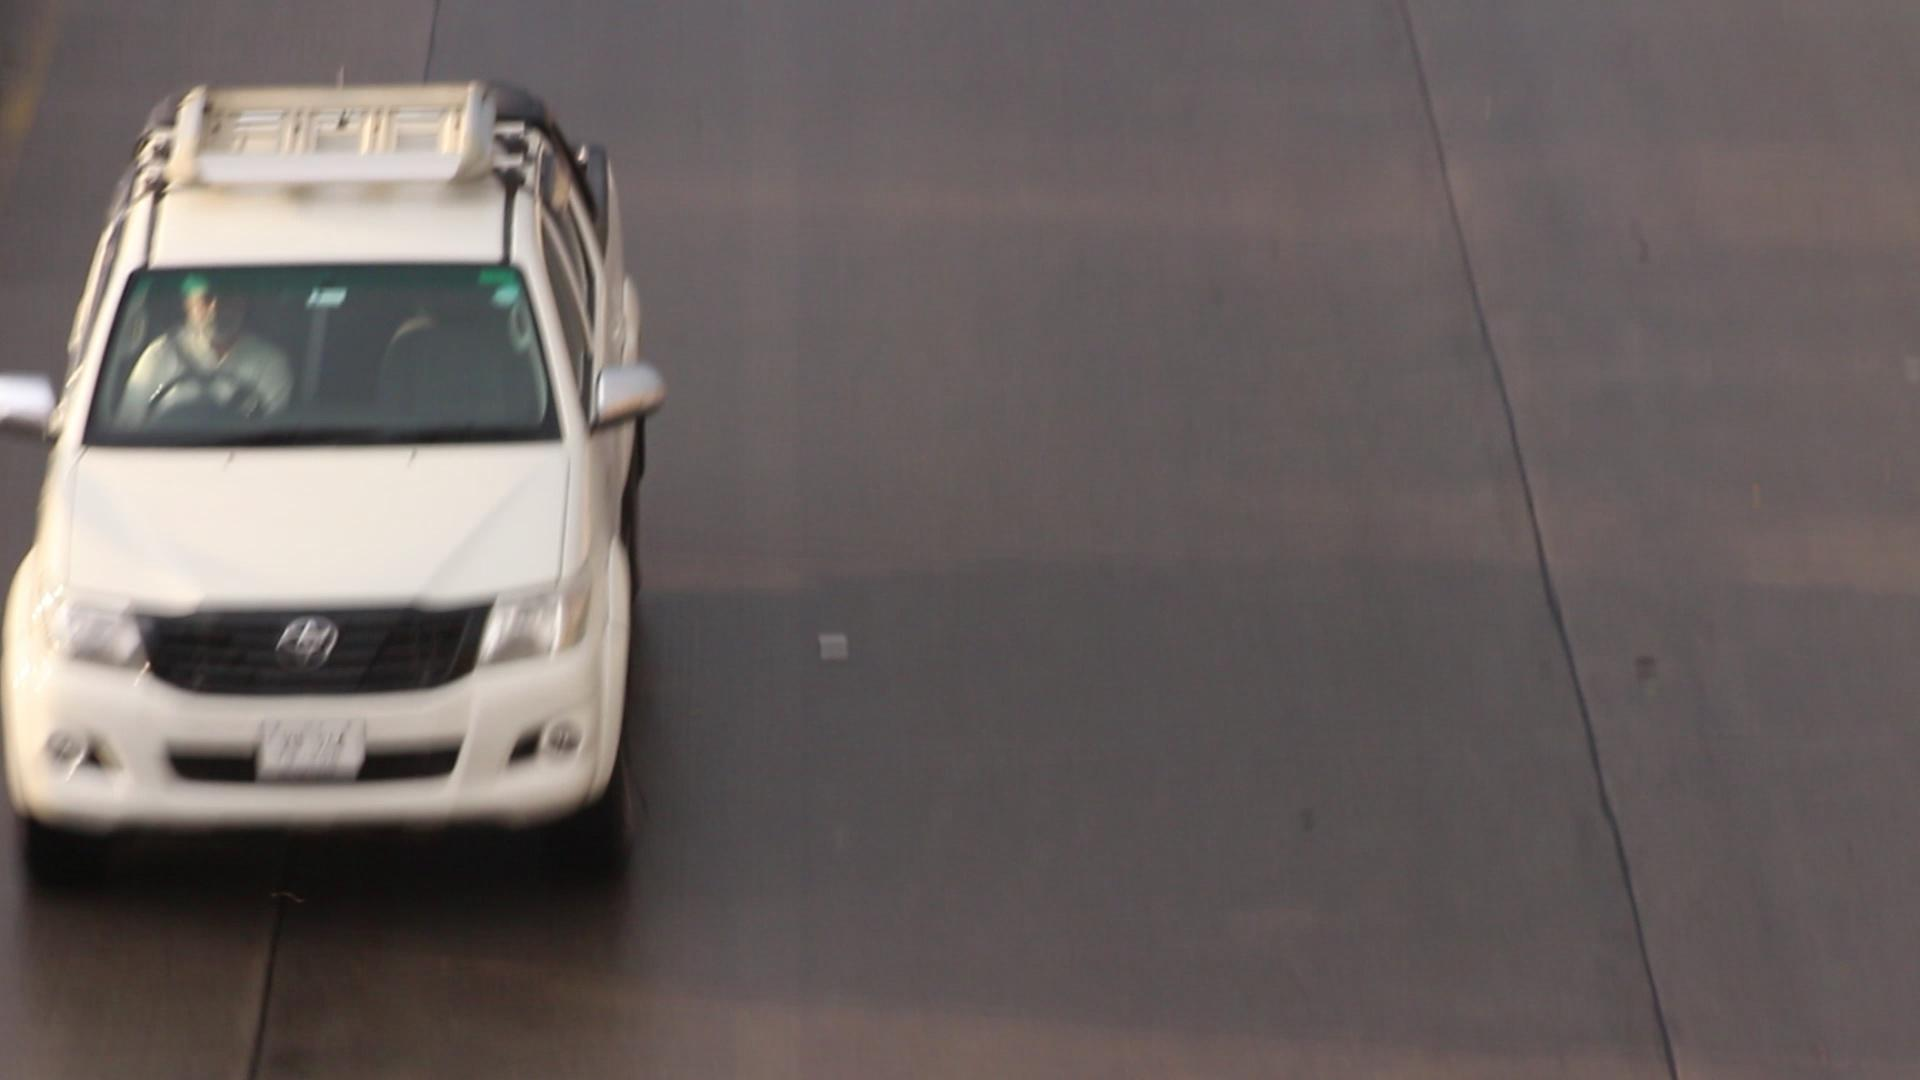windshield: (71, 240, 564, 467)
